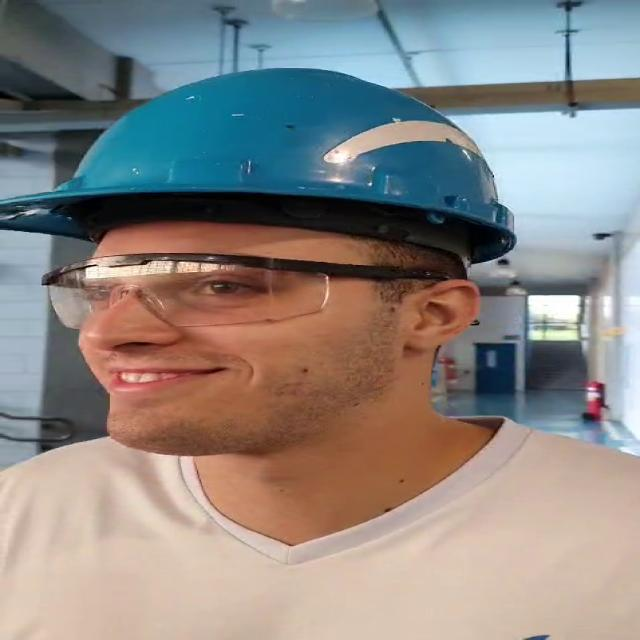oculos-epi: (42, 253, 445, 329)
